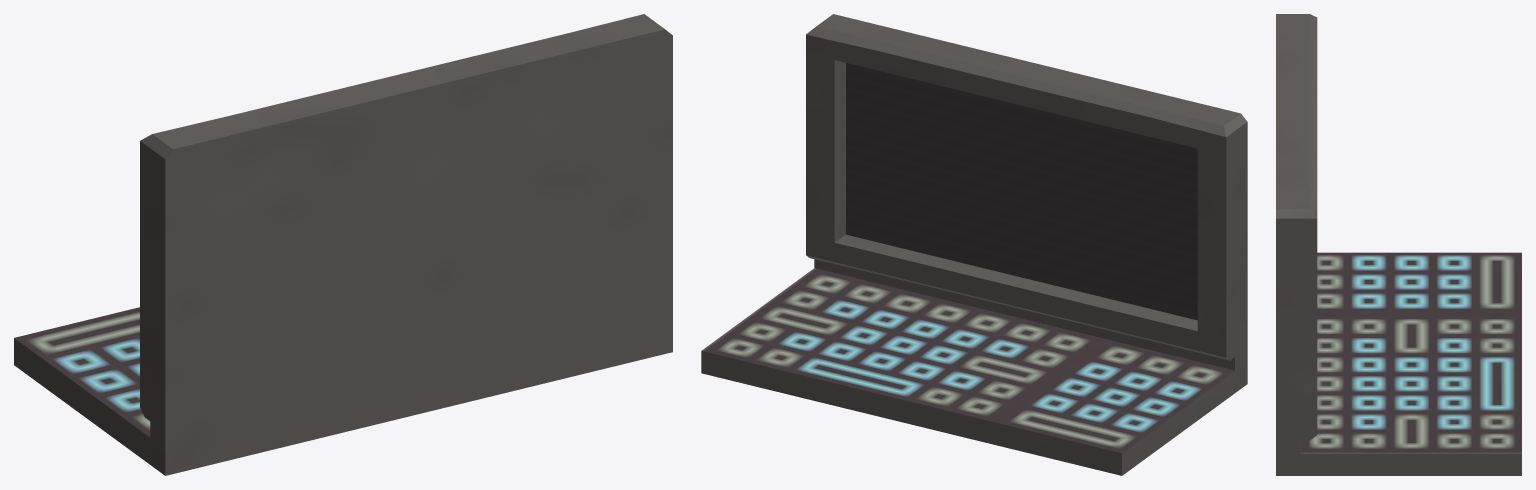
The model's file is computer.fbx.
The picture shows the model from 3 angles, left to right: view 1: azimuth 30°, elevation 25°; view 2: azimuth 150°, elevation 25°; view 3: azimuth 270°, elevation 25°; orthographic projection. The views are drawn at different scales.
Visible parts, largest first — view 1: computer; view 2: computer; view 3: computer.
Boxes of the visible parts, bbox=[...] form: computer: bbox=[14, 14, 672, 475]; computer: bbox=[701, 14, 1247, 475]; computer: bbox=[1276, 14, 1521, 475].
Size of the model in its own units: 156 by 95.53 by 80.71.
